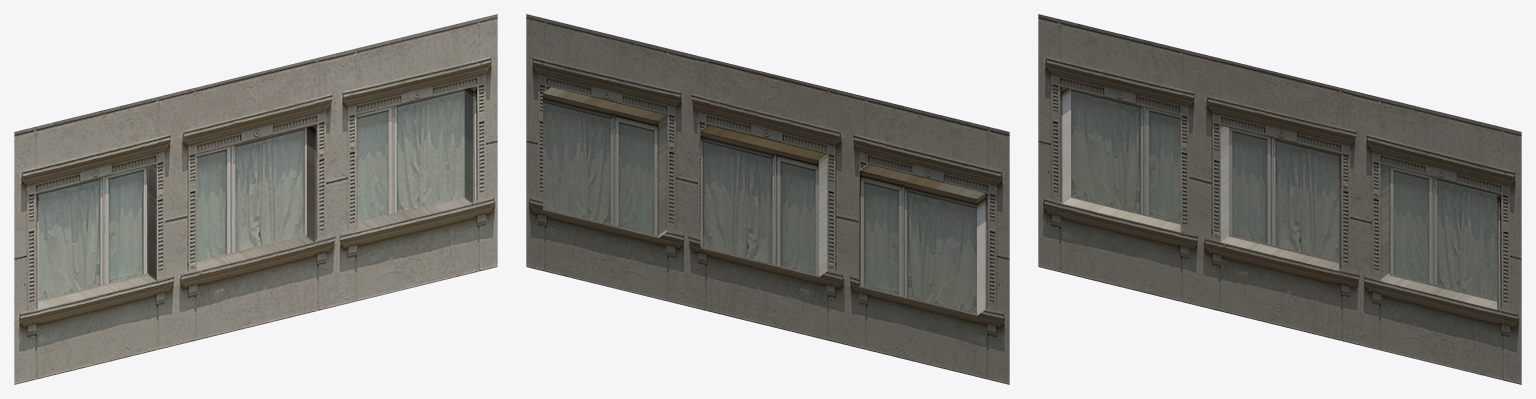
File: CT_Building_Piece_07.fbx
The picture shows the model from 3 angles, left to right: view 1: azimuth 30°, elevation 25°; view 2: azimuth 150°, elevation 25°; view 3: azimuth 330°, elevation 25°; orthographic projection.
Visible parts, largest first — view 1: CT_Building_Piece_07; view 2: CT_Building_Piece_07; view 3: CT_Building_Piece_07.
Boxes of the visible parts, x1,y1,x2,y2 form: CT_Building_Piece_07: [14, 14, 497, 384]; CT_Building_Piece_07: [526, 14, 1009, 384]; CT_Building_Piece_07: [1038, 14, 1521, 384].
Bounding box in the file's own units: 512 × 256 × 15.
